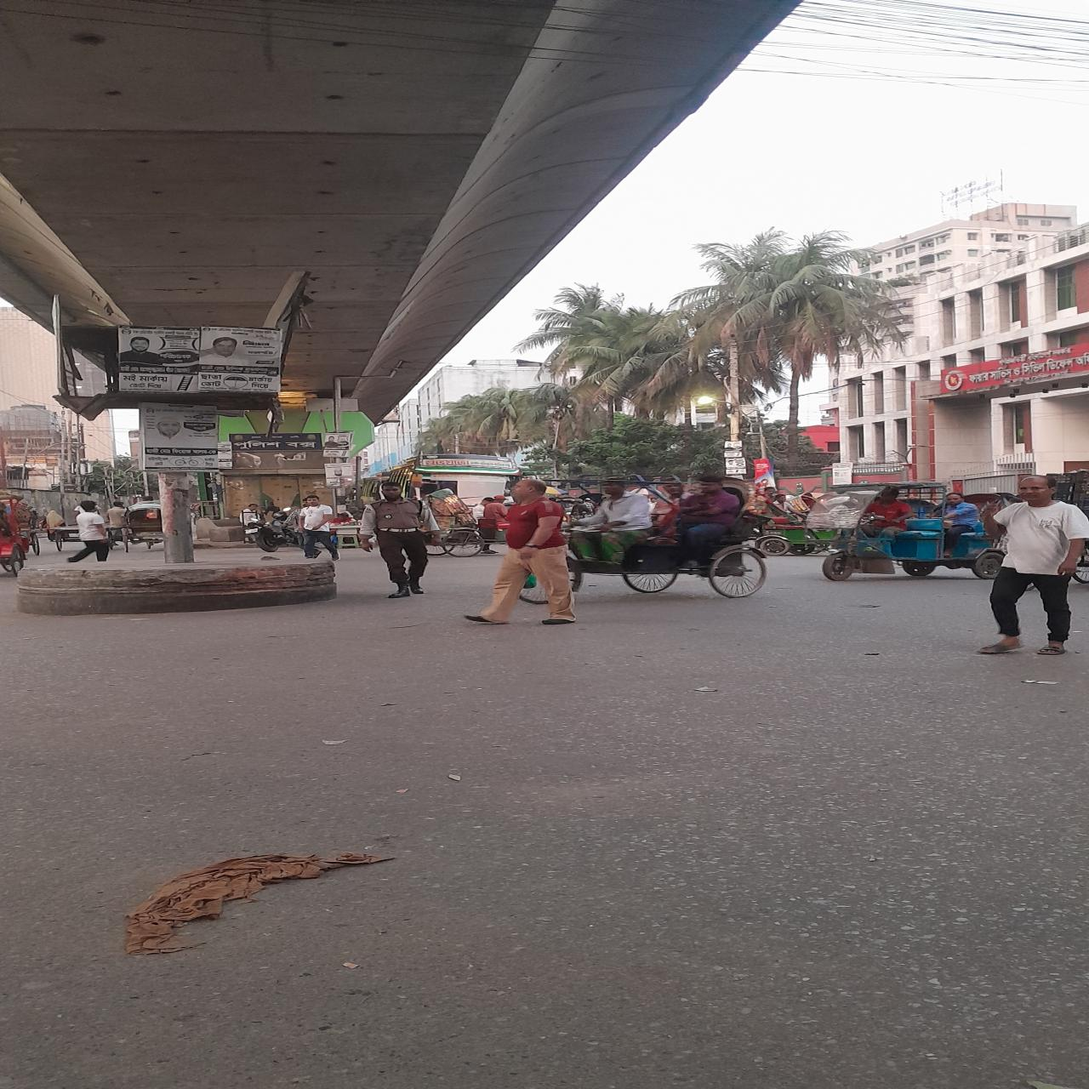person: (976, 476, 1089, 660), (465, 479, 584, 627), (355, 481, 446, 598), (298, 496, 344, 562), (68, 501, 113, 564), (105, 497, 129, 546)
